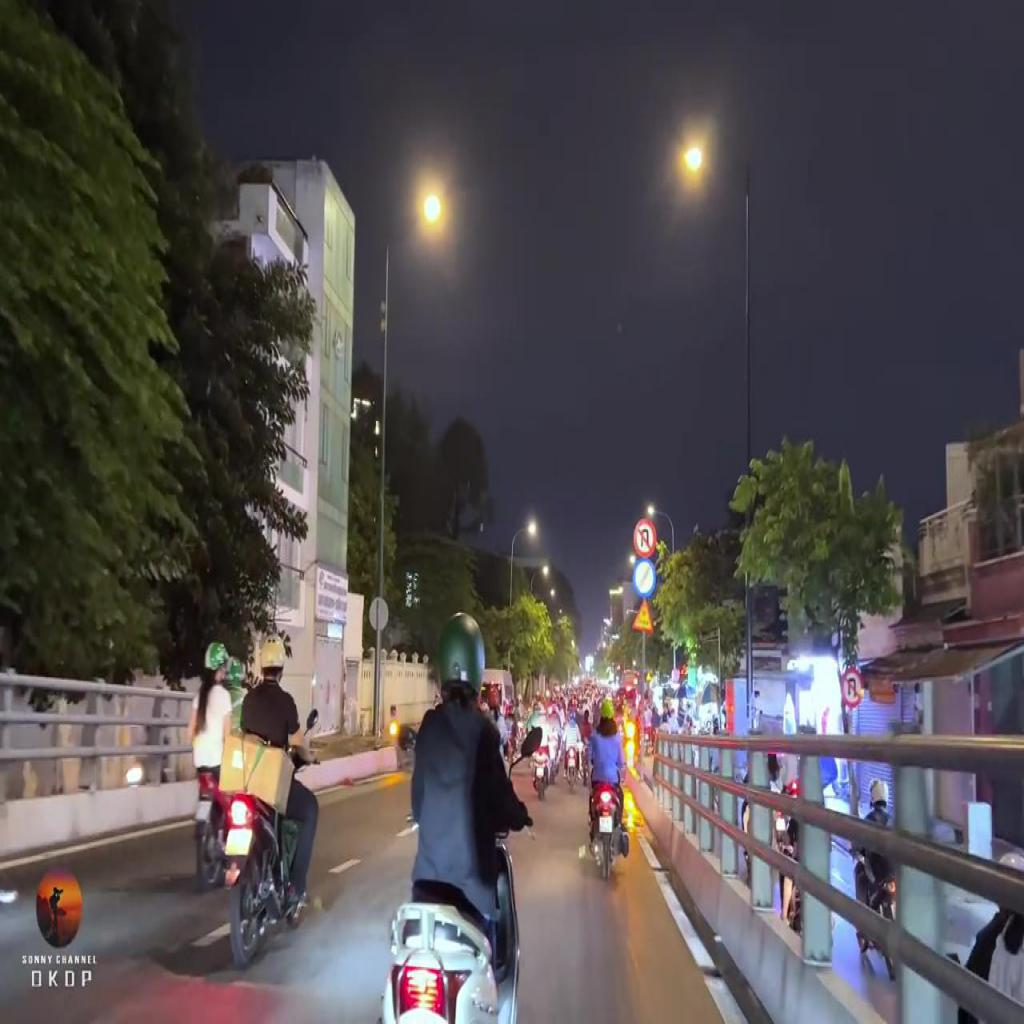cam_quay_dau_xe: (839, 667, 864, 708), (633, 516, 657, 558)
di_cham: (631, 603, 653, 630)
khac: (633, 557, 655, 596)
